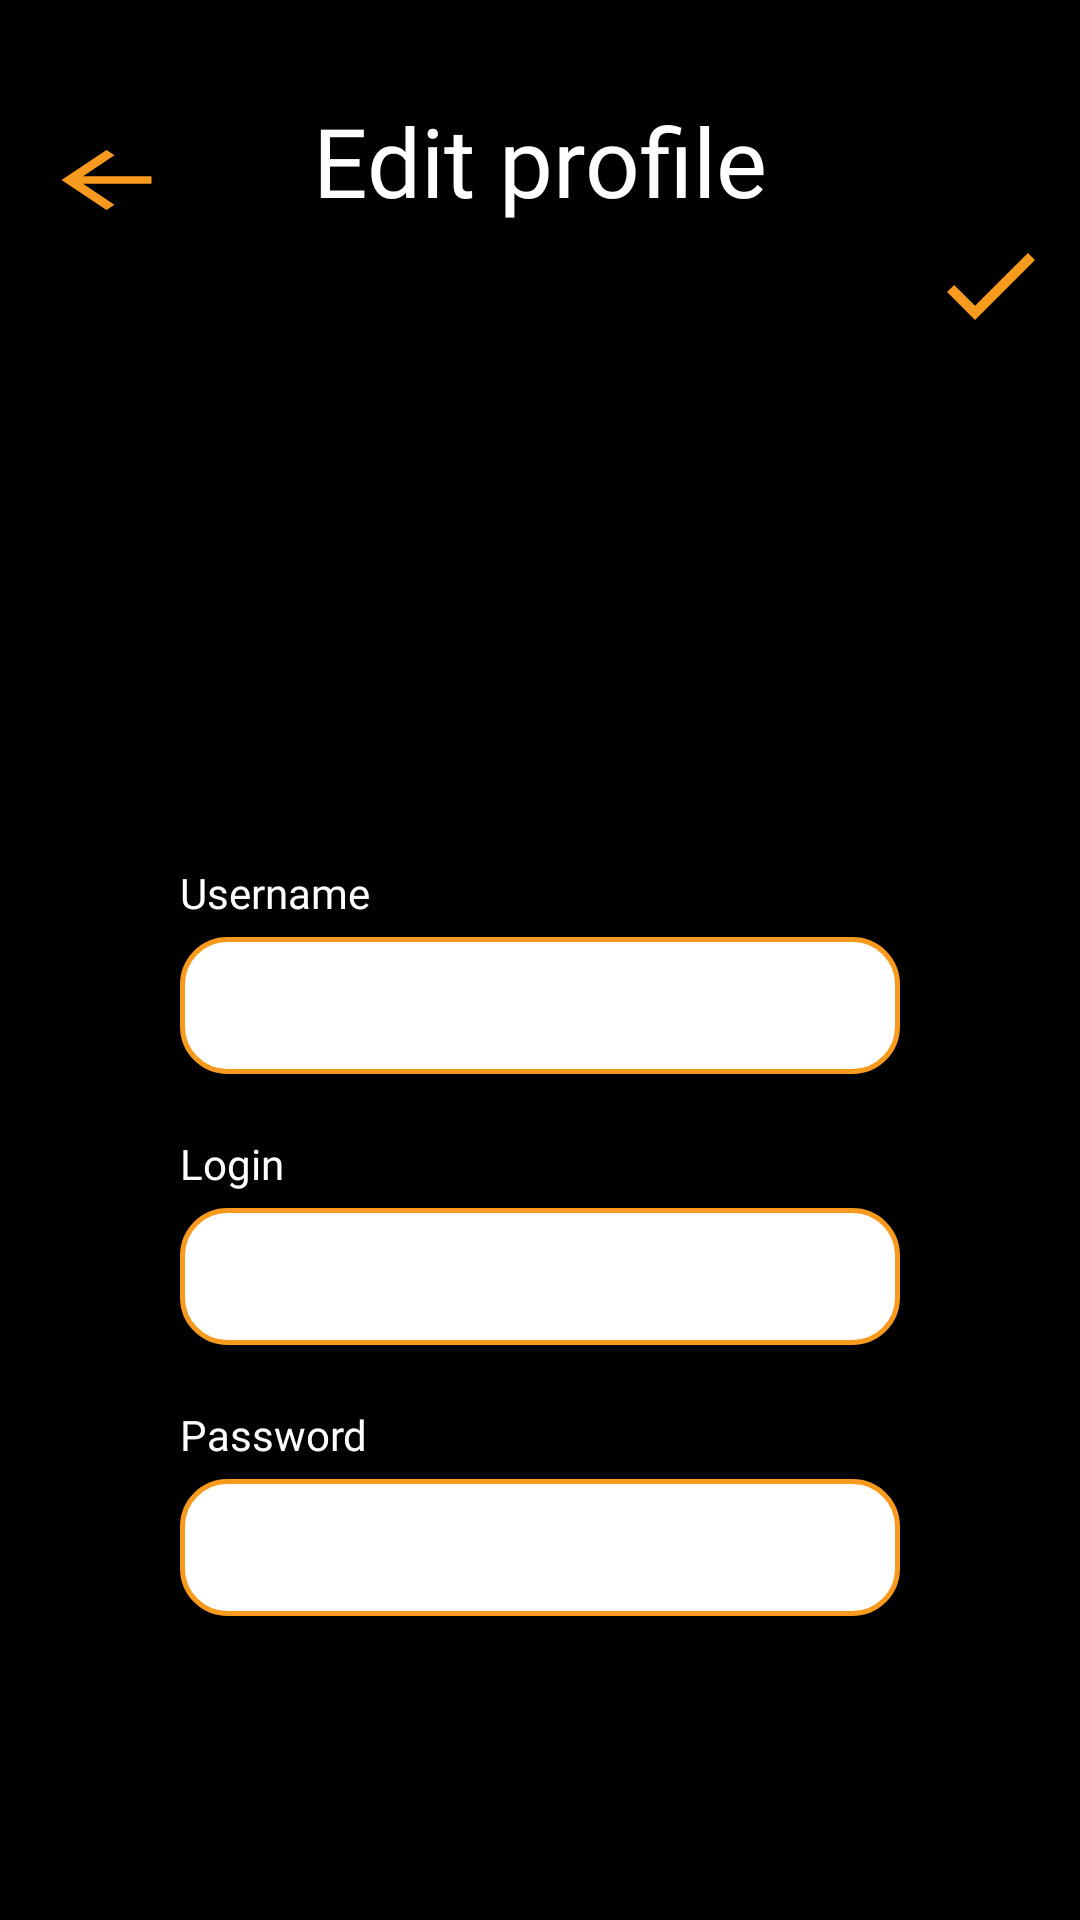

Icon click points for this 1080 x 1920 phone screenshot, format (x=x, y=y):
arrow back: (x=107, y=180)
check mark: (x=991, y=286)
